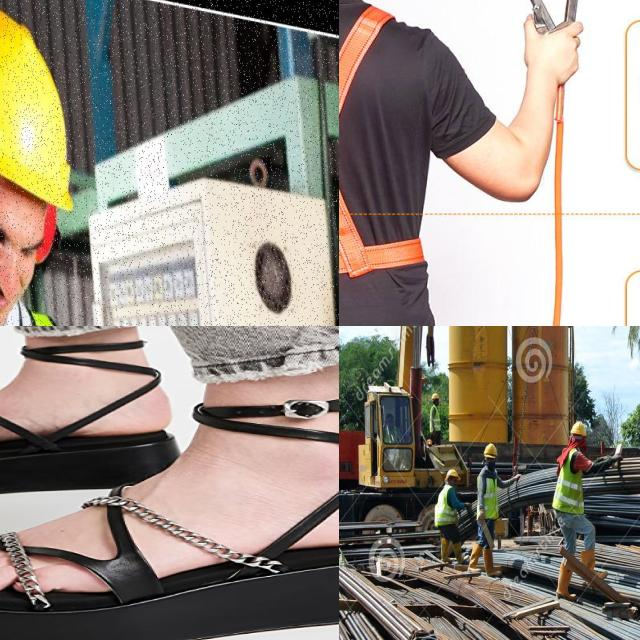Ear-protection: (41, 202, 55, 278)
Harness: (339, 0, 426, 326)
Sandals: (0, 381, 339, 640), (0, 338, 178, 499)
boots: (579, 544, 609, 590), (554, 566, 581, 603), (464, 541, 482, 575), (450, 535, 470, 565), (482, 552, 502, 580), (438, 536, 455, 565)
head_helmet: (0, 10, 101, 155), (572, 421, 588, 437), (444, 469, 462, 481), (484, 444, 498, 459), (431, 393, 440, 400)
person: (554, 419, 607, 600), (470, 443, 508, 579), (435, 465, 467, 564), (430, 391, 444, 442), (384, 414, 406, 444)
vest: (554, 454, 584, 511), (479, 472, 501, 520), (436, 484, 456, 529), (431, 408, 441, 432)
